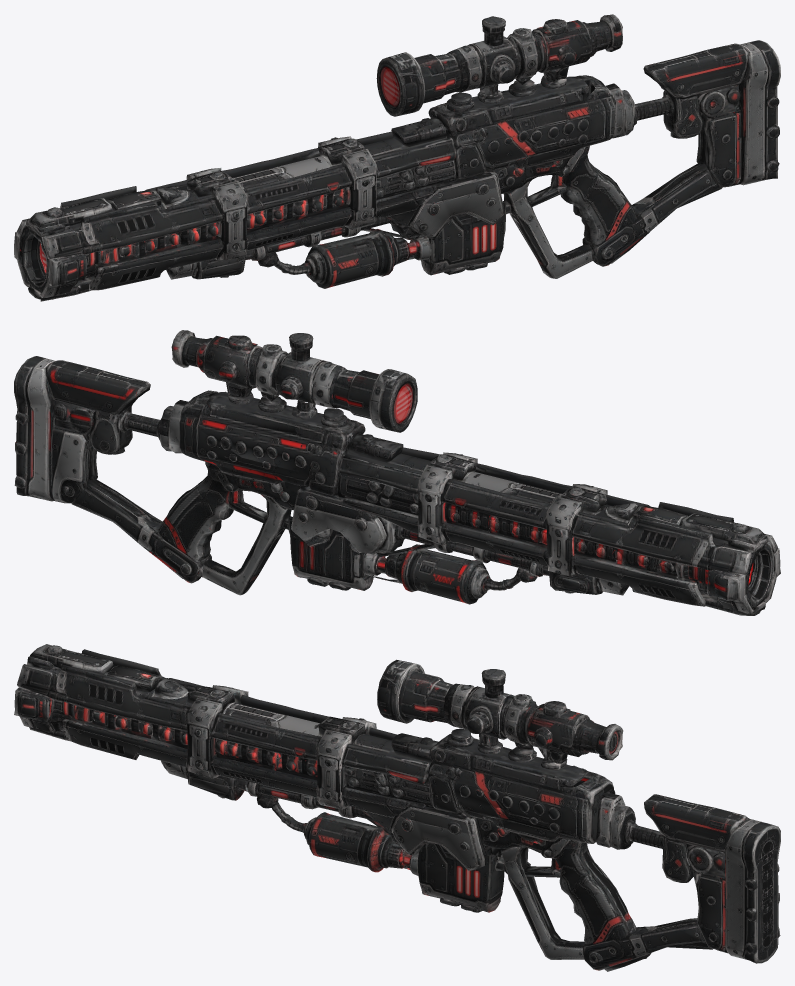
The model's file is Railgun-Rifle.glb.
The picture shows the model from 3 angles, top to bottom: view 1: azimuth 30°, elevation 25°; view 2: azimuth 150°, elevation 25°; view 3: azimuth 330°, elevation 25°; orthographic projection.
Size of the model in its own units: 1 by 0.3535 by 0.1091.
1 material, 1 textured.
